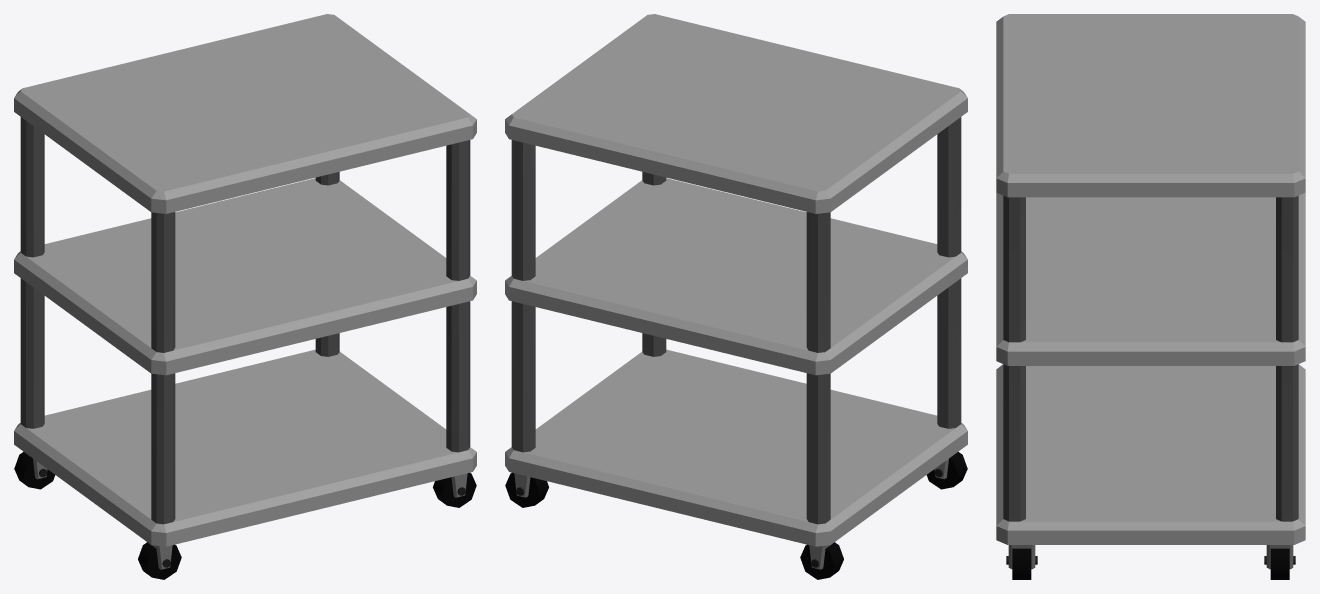
The model's file is Utility Cart 02.fbx.
3 renders of one model, left to right at view 1: azimuth 30°, elevation 25°; view 2: azimuth 150°, elevation 25°; view 3: azimuth 270°, elevation 25°, orthographic. The views are drawn at different scales.
Parts seen in each view (by area): view 1: Utility_Cart_02; view 2: Utility_Cart_02; view 3: Utility_Cart_02.
Boxes of the visible parts, box(x1,y1,x2,y2) form: Utility_Cart_02: box(14, 14, 476, 579); Utility_Cart_02: box(505, 14, 967, 579); Utility_Cart_02: box(996, 14, 1305, 579).
Size of the model in its own units: 106 by 120 by 82.43.
